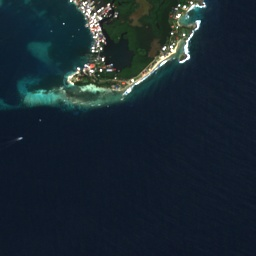Ship: (17, 137, 22, 140)
